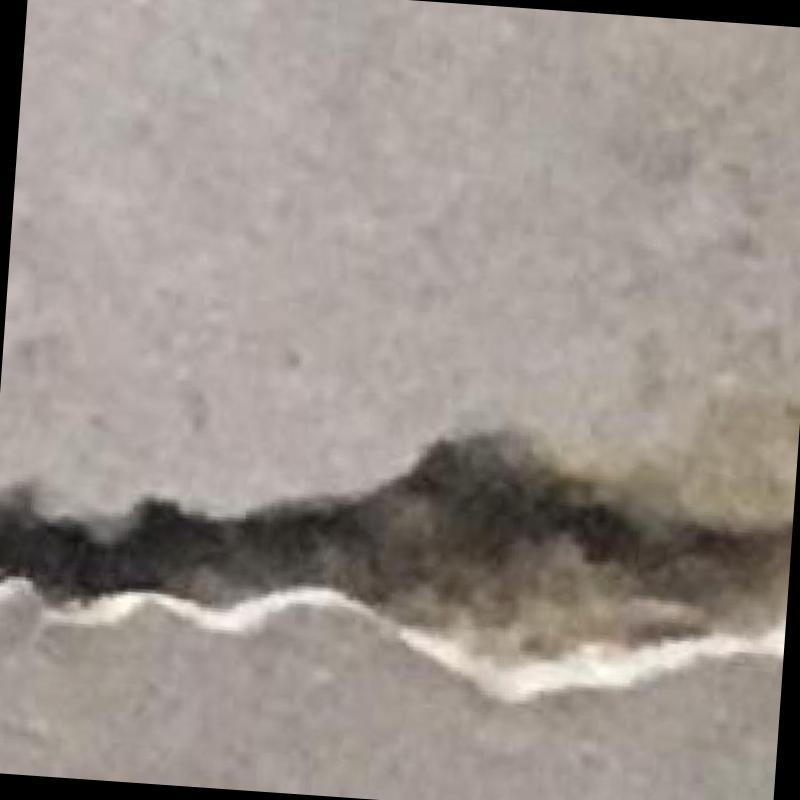crack: (0, 431, 791, 656)
